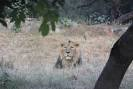lion: (54, 41, 87, 71)
